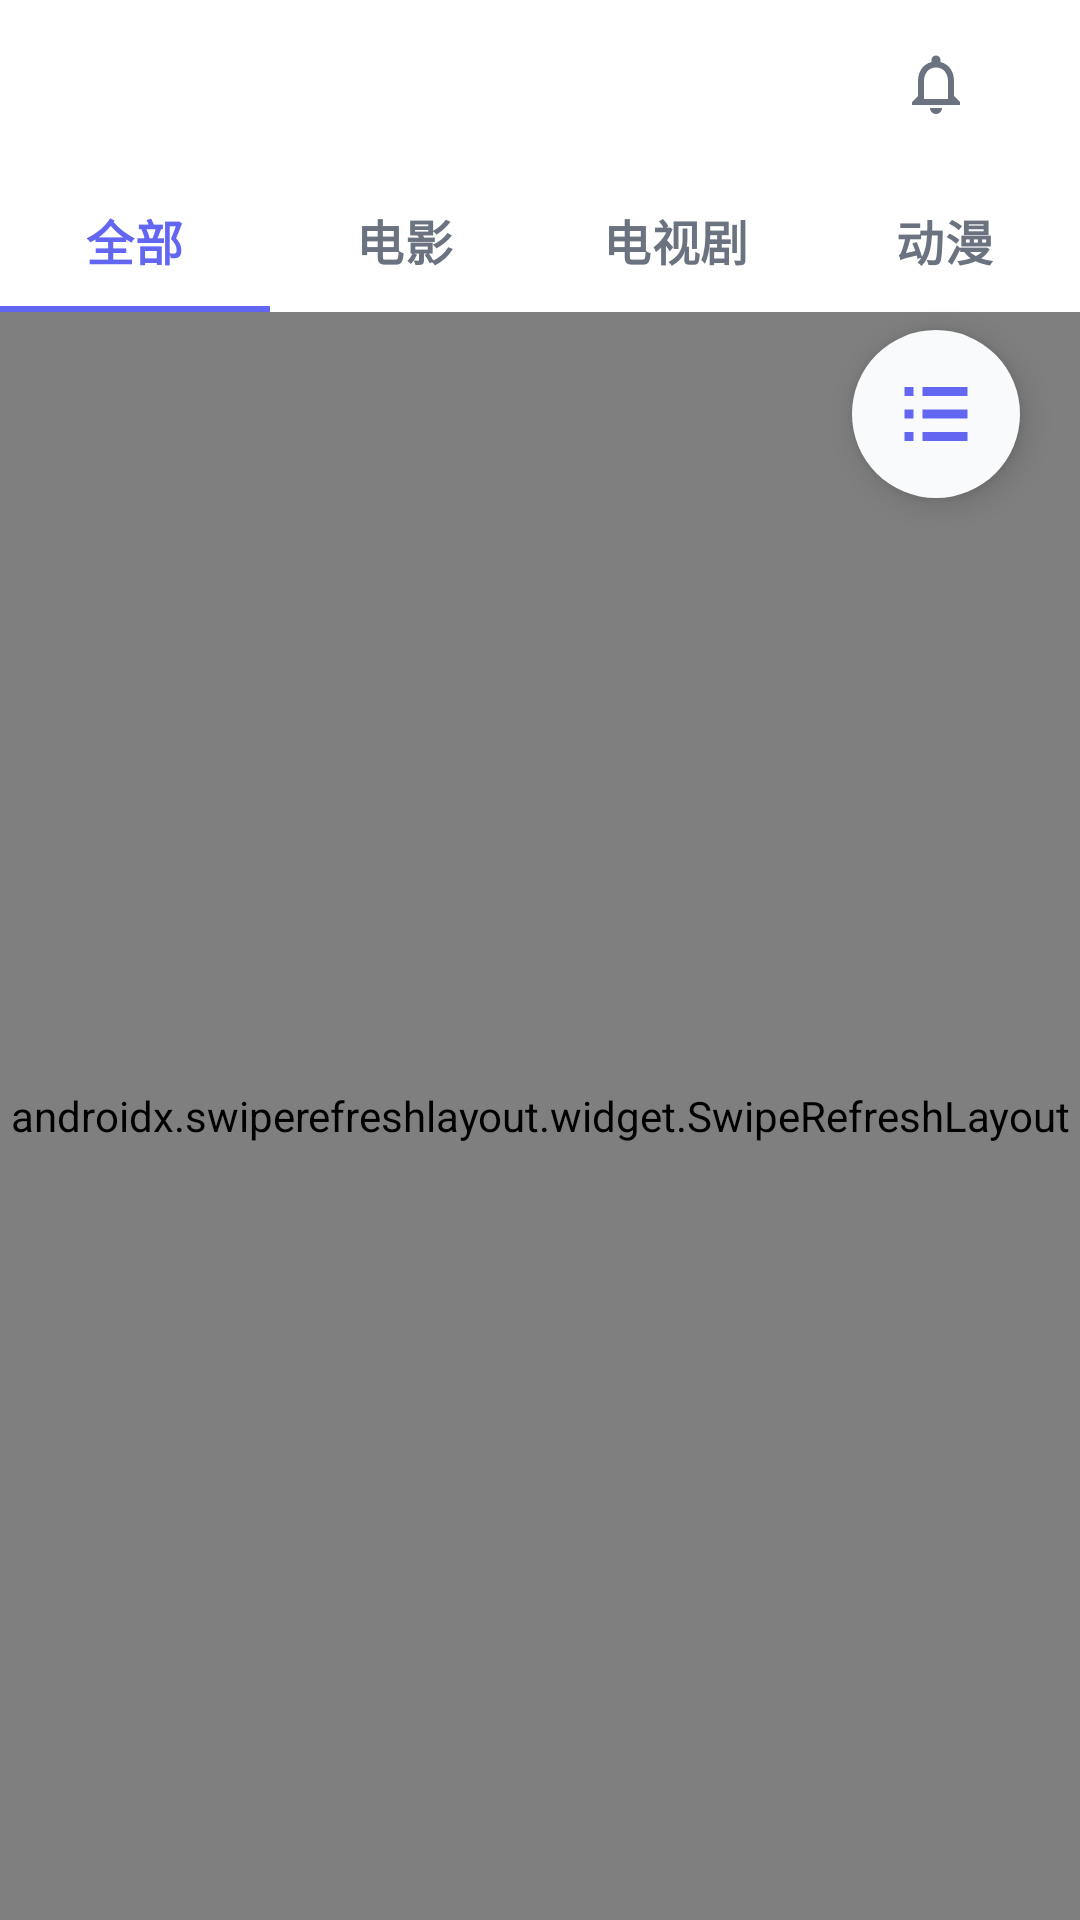

Named icons in this screenshot (1080x1920) and their centers, [x,y]:
切换视图: [936,414]
通知: [936,84]
